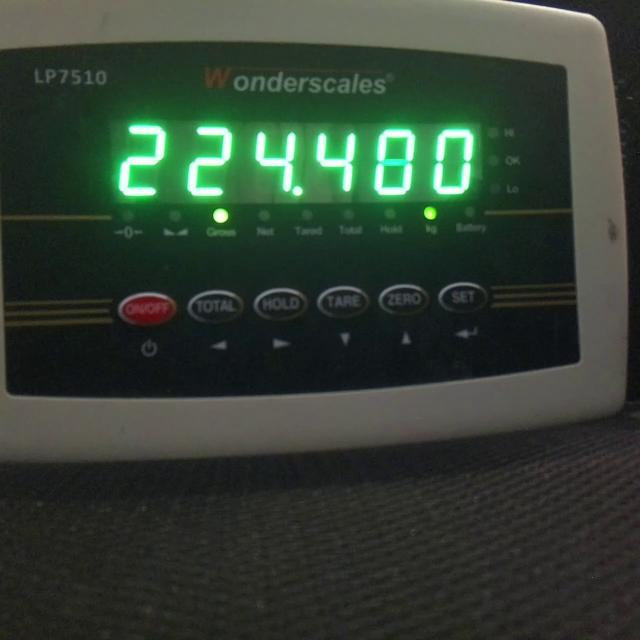.: (291, 184, 305, 196)
0: (434, 128, 474, 195)
2: (119, 124, 167, 197), (188, 126, 233, 197)
4: (255, 129, 296, 194), (316, 132, 356, 194)
8: (373, 120, 415, 204)
